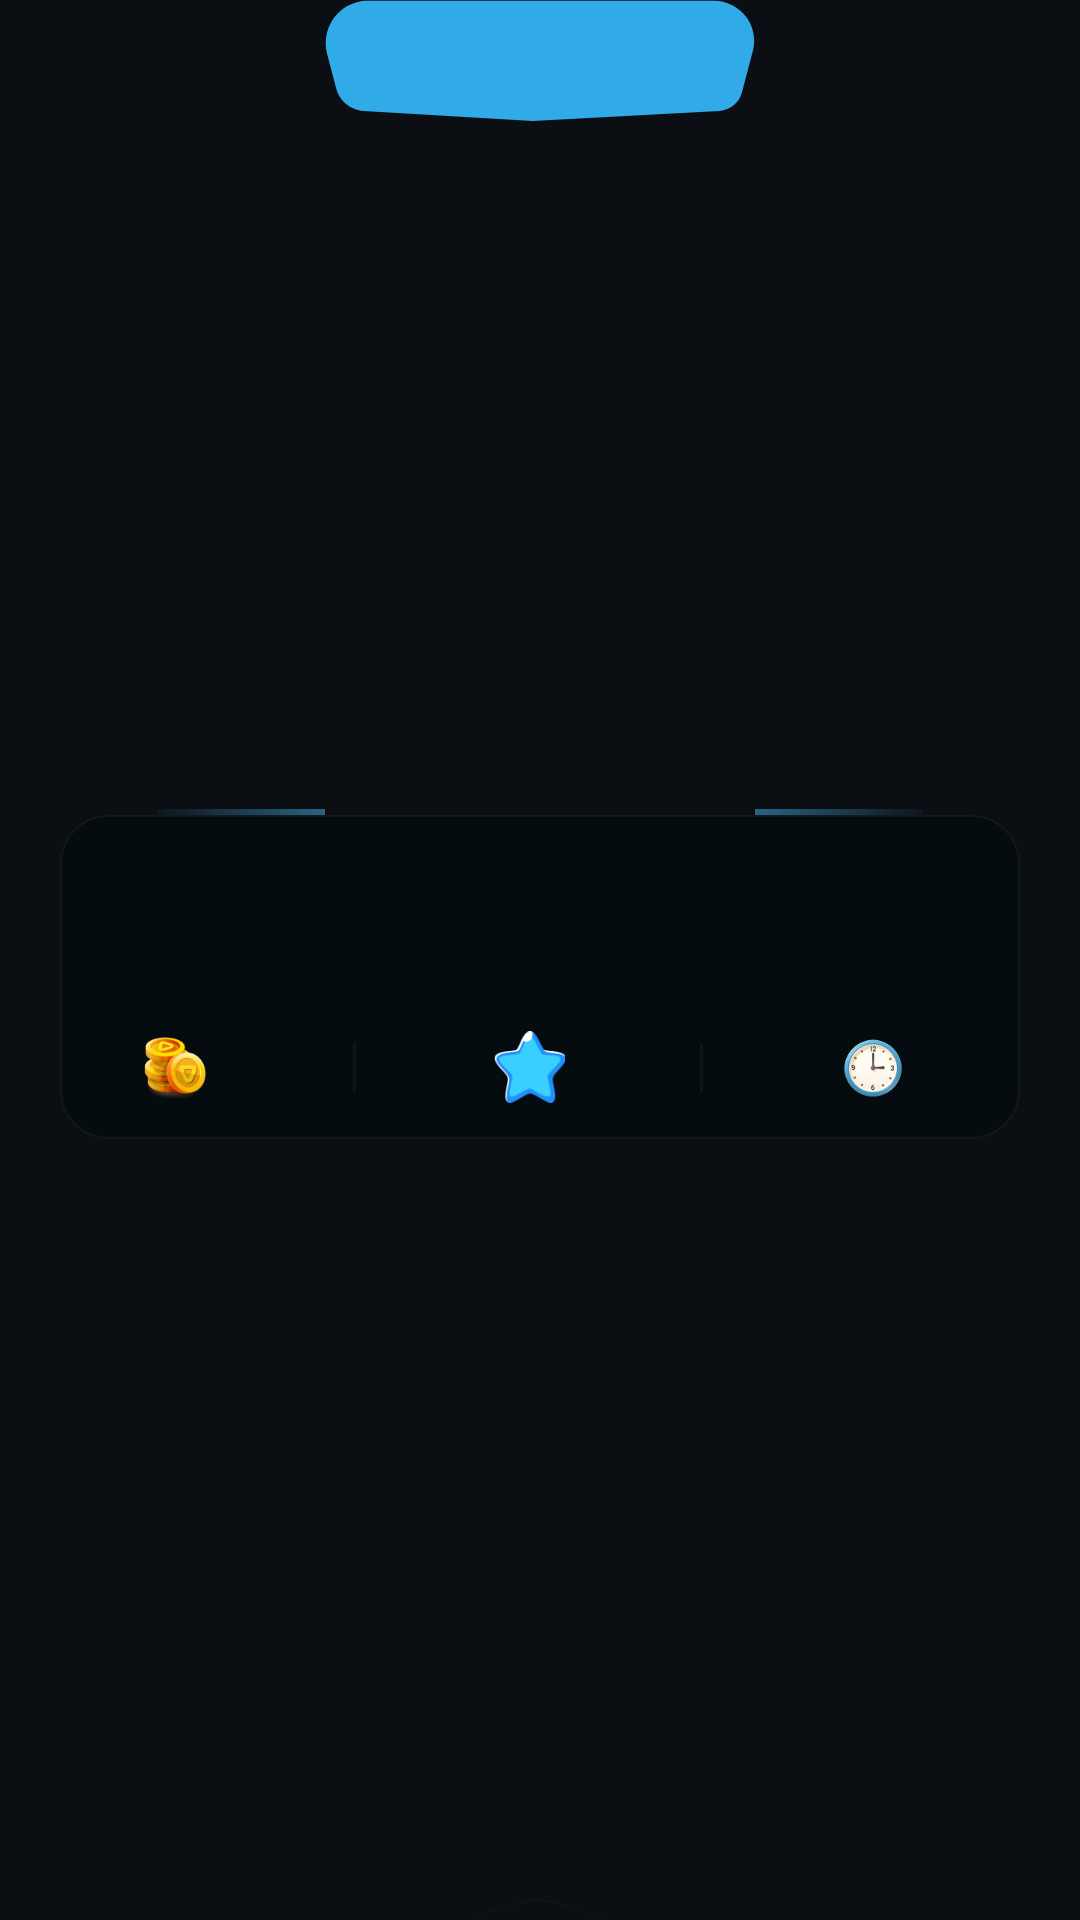

Icons on this 1080×1920 Android screen, each with the point to tap as (x,y):
game coins icon: (175,1067)
game star icon: (529,1067)
game time icon: (873,1068)
